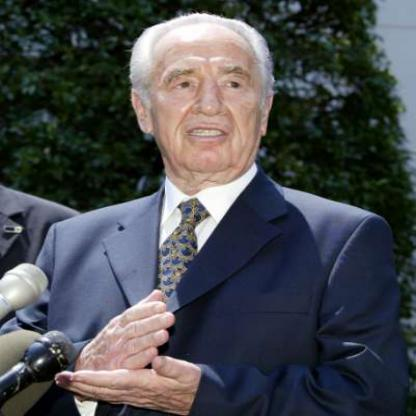face: (149, 20, 265, 175)
